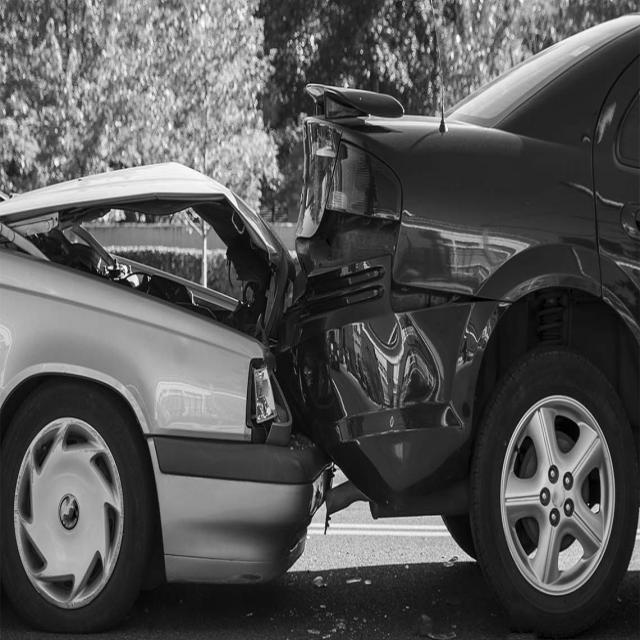crush: (0, 161, 294, 448)
misalignment: (295, 209, 491, 312)
